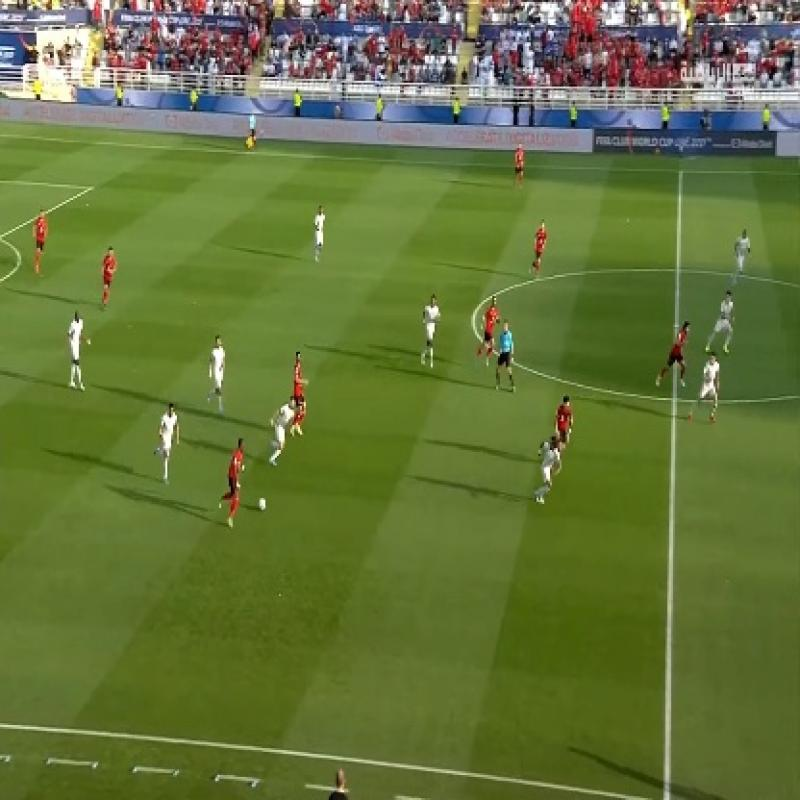10: (0, 225, 10, 246)
13: (672, 158, 690, 180)
14: (666, 254, 690, 283)
15: (664, 382, 685, 416)
9: (78, 177, 96, 198)
c: (458, 307, 488, 338)
